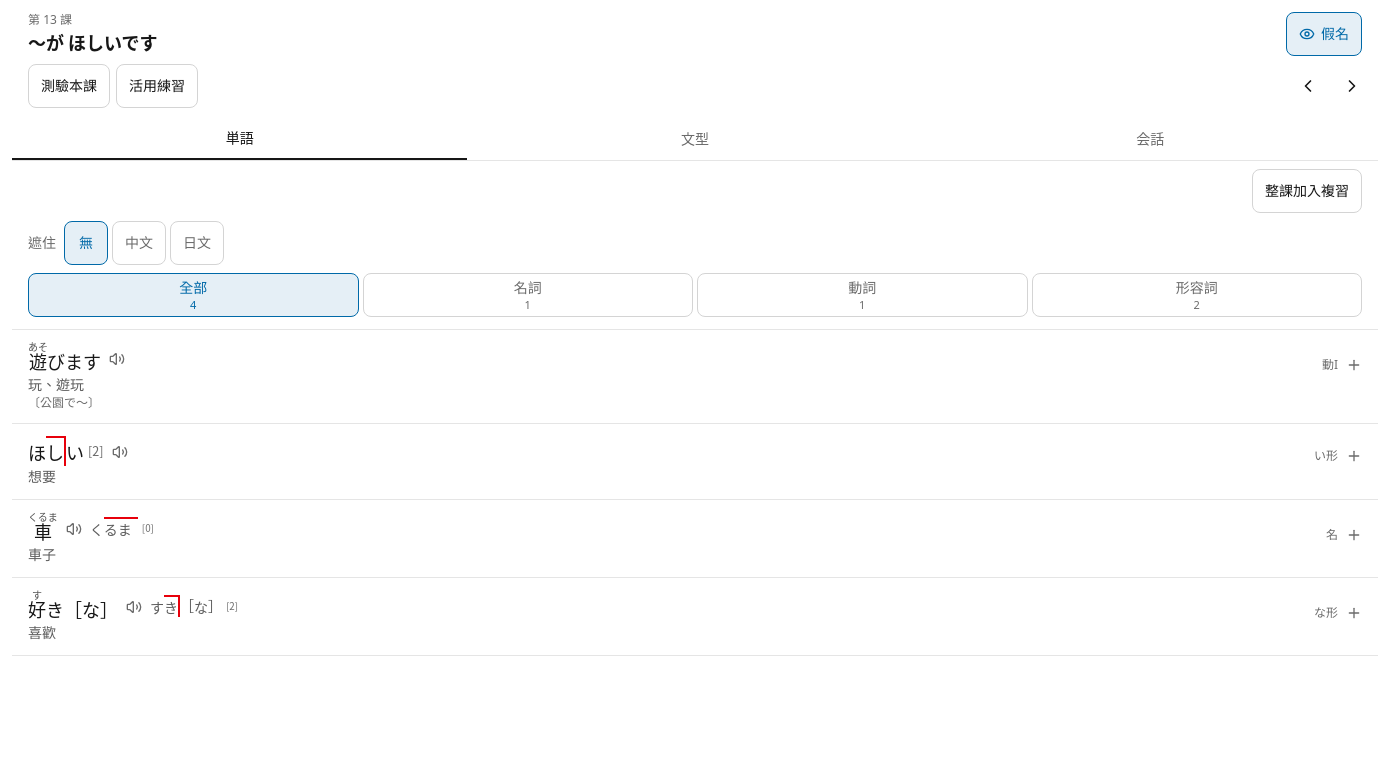
Scenario: LessonDetail 自我測驗與詞性篩選(T11.1) › 遮日文:標題字、讀音、重音與 note 都不渲染,列內鈕改以釋義命名;發音鈕保留(聽音回想)
Expected: the text "玩、遊玩" is shown, [28,375,84,394]
Click the button "日文" at [197, 243], box [170,221,224,265]
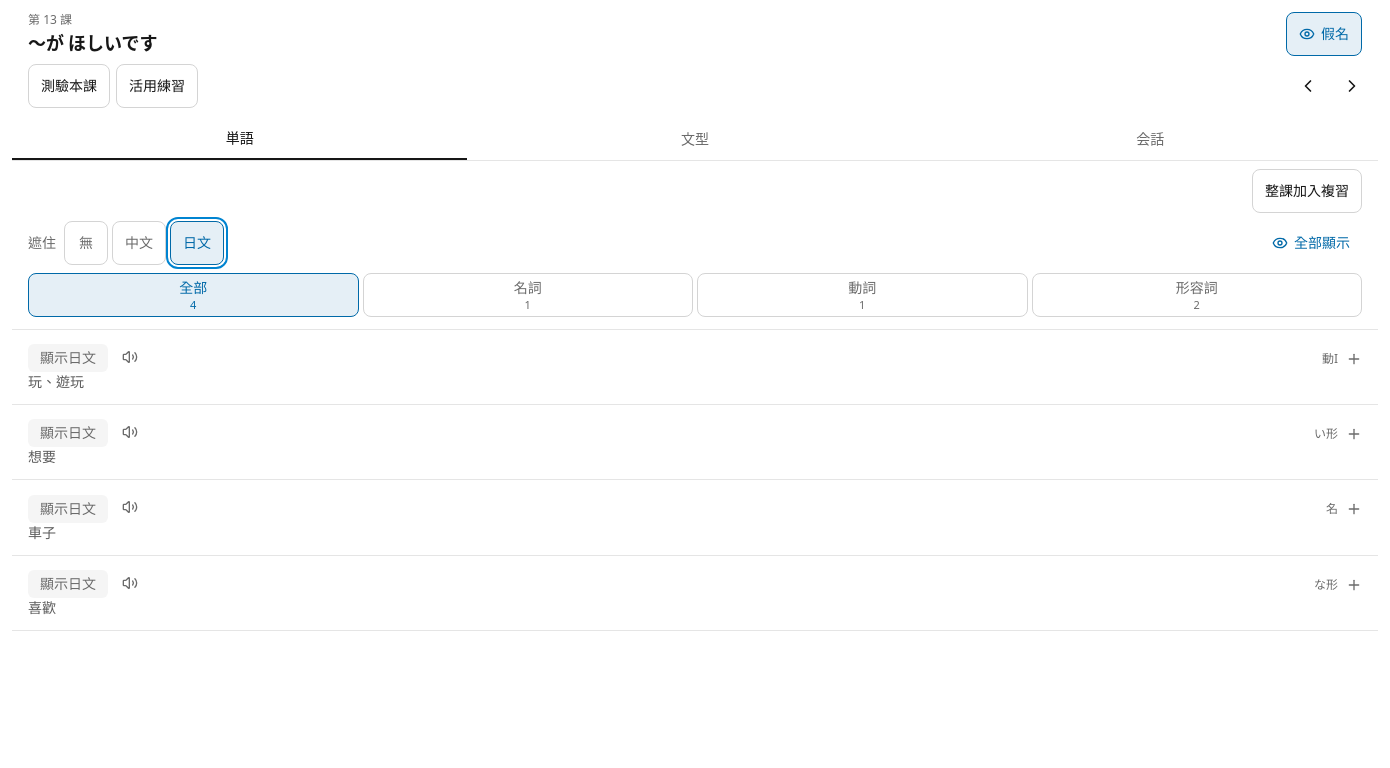
Expected: the text "くるま" is gone
Expected: the text "公園" is gone
Expected: the button named "加入複習:玩、遊玩" is shown, [1332,337,1376,381]
Click the button named "播放發音:車子" at [130, 507], box [108,485,152,529]
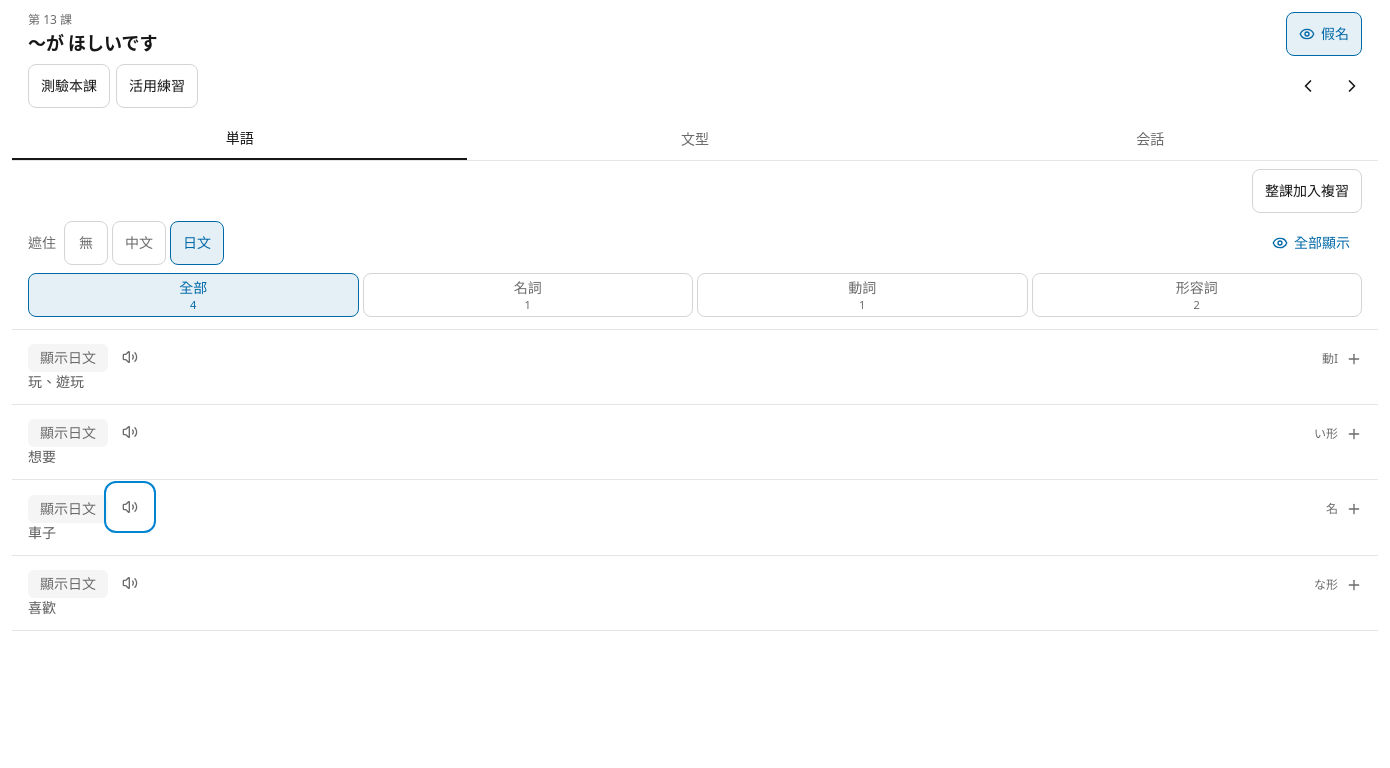
Click the button with aria-label "顯示日文:車子" at [68, 507], box [28,484,108,530]
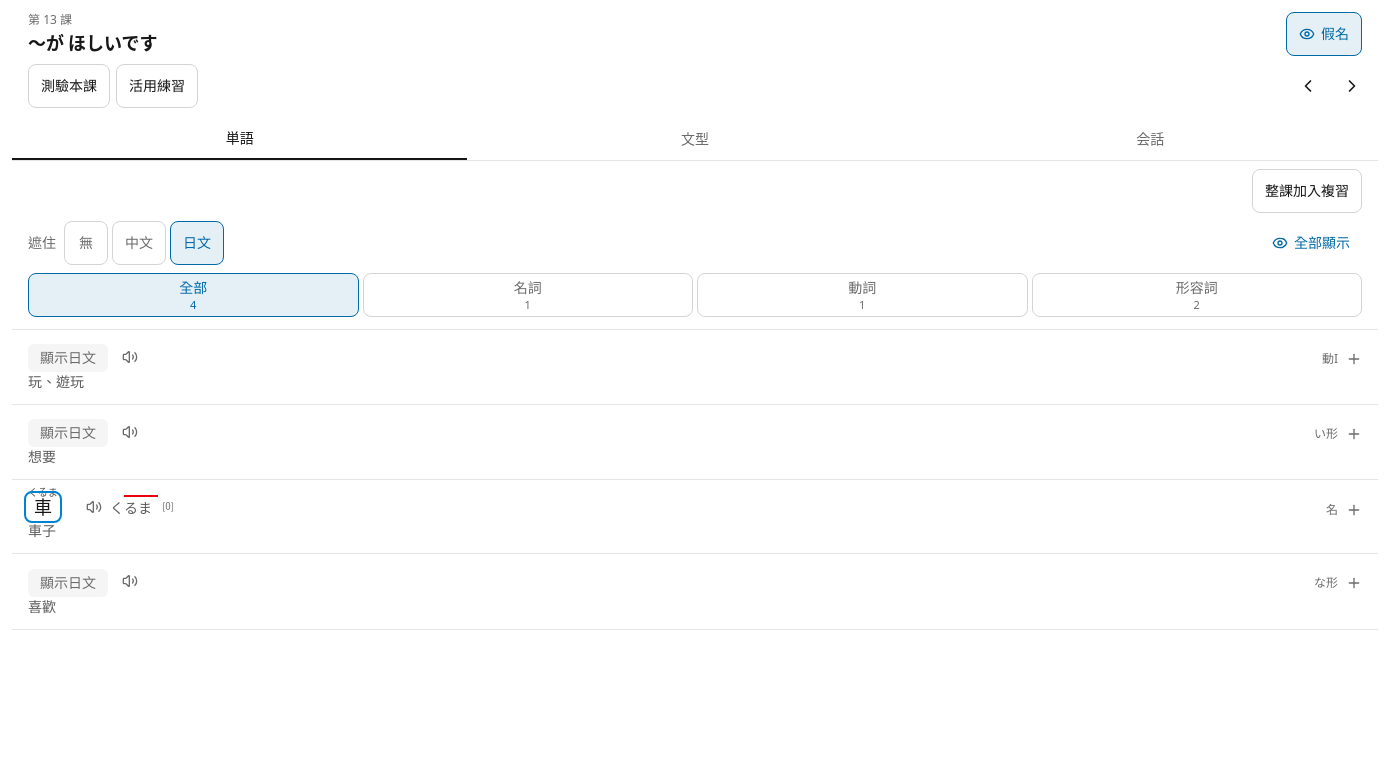
Expected: the button named "顯示日文:車子" is expanded, [28,484,72,529]
Expected: the text "車" is shown, [28,493,58,519]
Expected: the button named "加入複習:くるま" is shown, [1332,488,1376,532]
Click the button with aria-label "顯示日文:想要" at [68, 432], box [28,409,108,455]
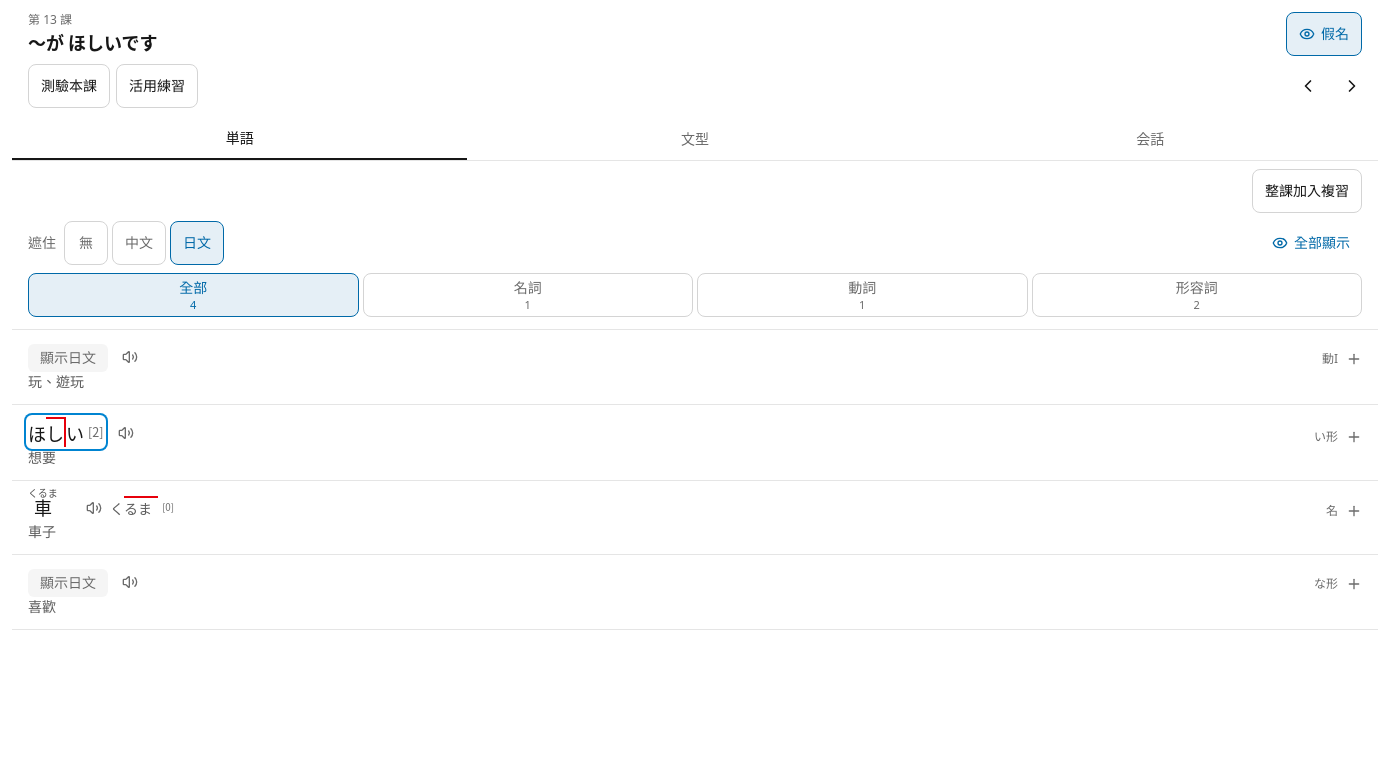
Expected: the button named "顯示日文:想要" is expanded, [28,409,104,456]
Note: note 隨揭示出現
Click the button with aria-label "顯示日文:玩、遊玩" at [68, 357], box [28,334,108,380]
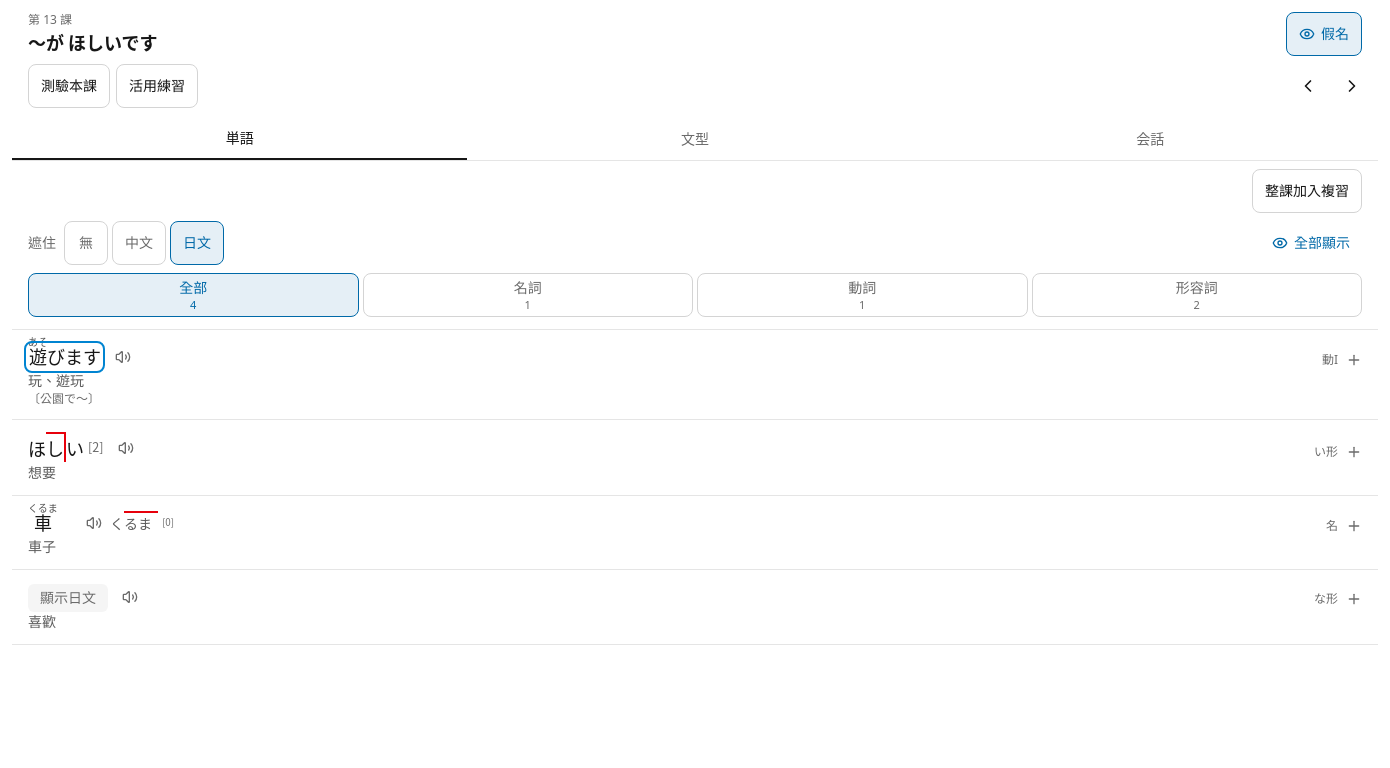
Expected: the text "〔公園で〜〕" is shown, [28,390,100,407]
